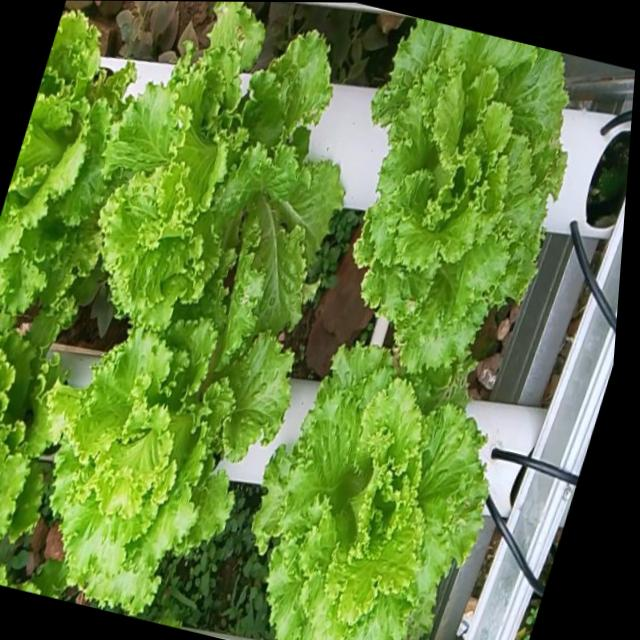Mature: (93, 2, 340, 326), (344, 16, 560, 369), (40, 311, 285, 609), (243, 337, 479, 640)
